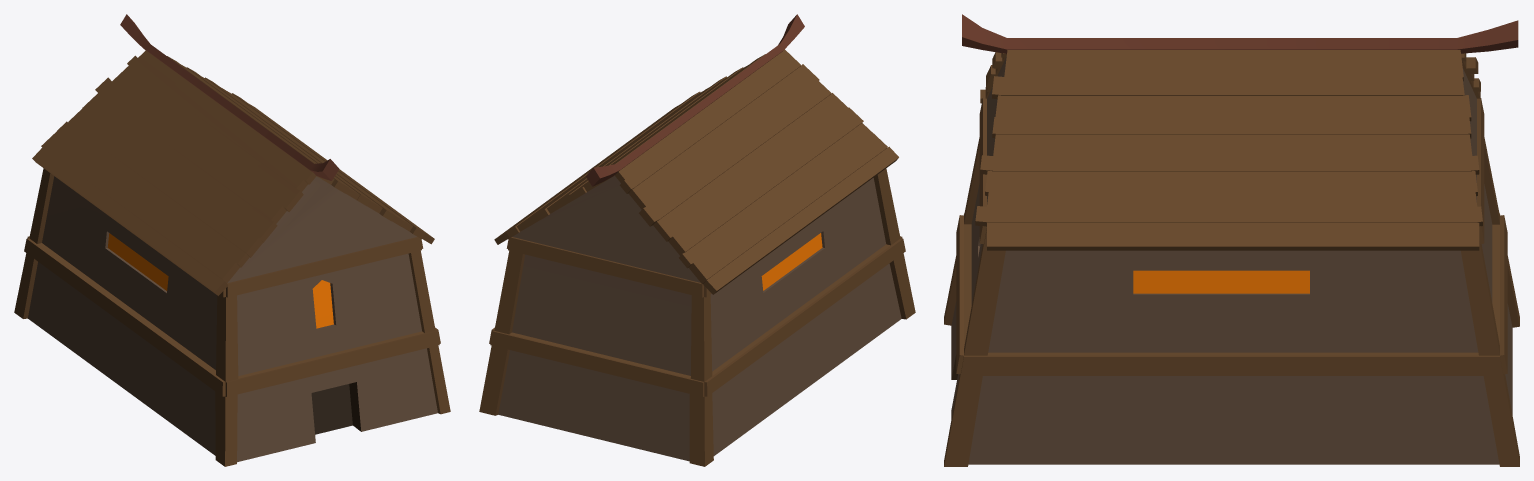
The model's file is Building_Viking_01.fbx.
The picture shows the model from 3 angles, left to right: view 1: azimuth 30°, elevation 25°; view 2: azimuth 150°, elevation 25°; view 3: azimuth 270°, elevation 25°; orthographic projection. The views are drawn at different scales.
Visible parts, largest first — view 1: Building_Viking_01; view 2: Building_Viking_01; view 3: Building_Viking_01.
Part boxes in pixels (x1,y1,x2,y2): Building_Viking_01: (14,14,450,466); Building_Viking_01: (479,14,915,466); Building_Viking_01: (944,14,1519,466).
Bounding box in the file's own units: 454 × 533 × 735.
